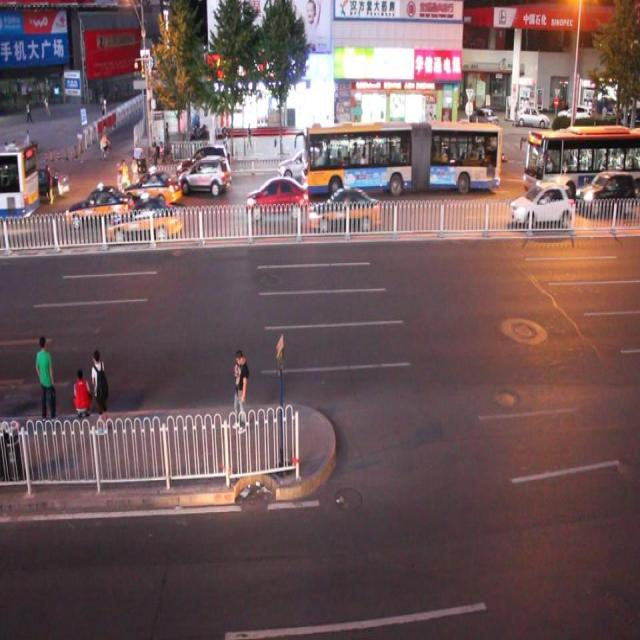car: (108, 196, 181, 238), (307, 188, 379, 230), (245, 174, 308, 218), (576, 167, 632, 215), (65, 186, 133, 225), (510, 183, 570, 225), (177, 142, 231, 182), (124, 170, 181, 206), (178, 154, 231, 192), (278, 146, 328, 179), (24, 166, 69, 198), (1, 164, 16, 200)
van: (301, 122, 502, 194), (522, 124, 640, 194), (1, 140, 41, 223)
